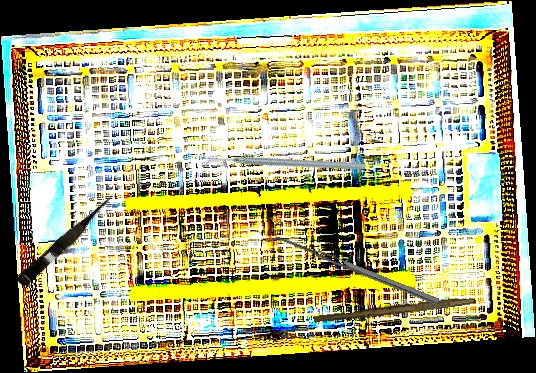Chopper: (201, 99, 367, 232)
Micro Scissor: (15, 189, 121, 291)
Scalpel Handle: (313, 292, 476, 327)
Spatula Surgical: (266, 231, 440, 312)
